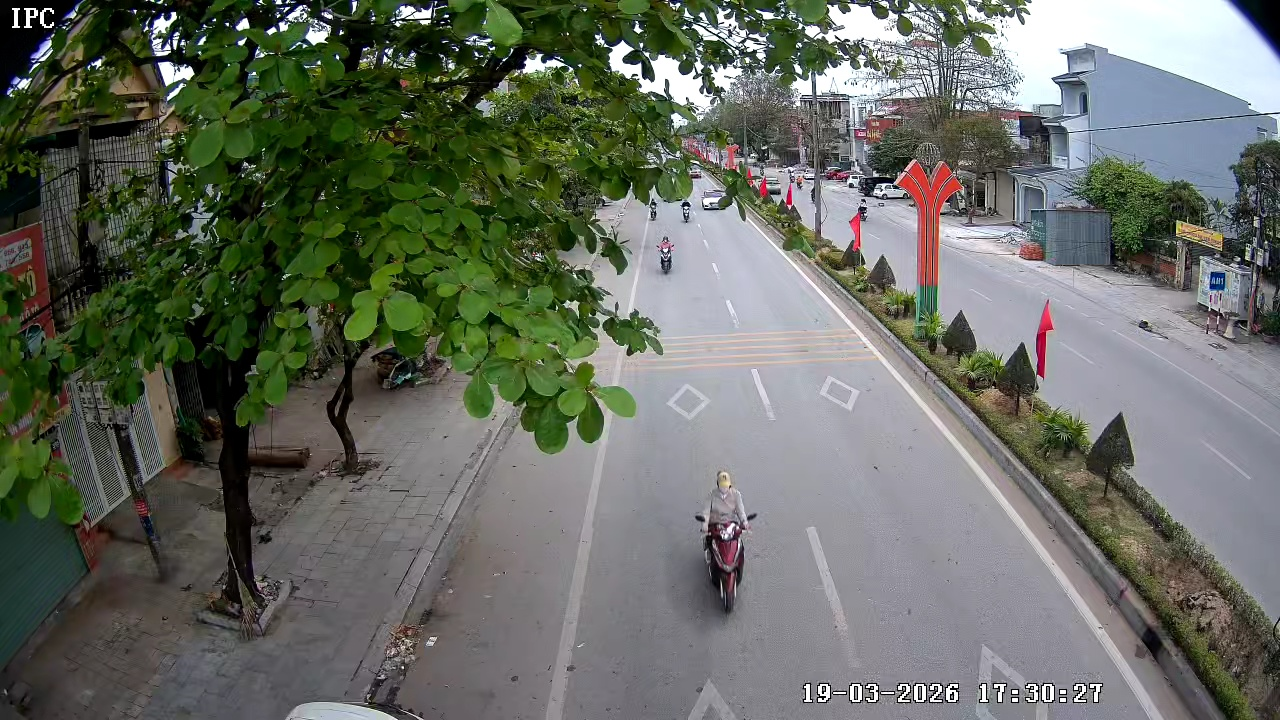motorbike: (693, 468, 760, 614), (656, 232, 675, 275), (679, 196, 692, 224)
